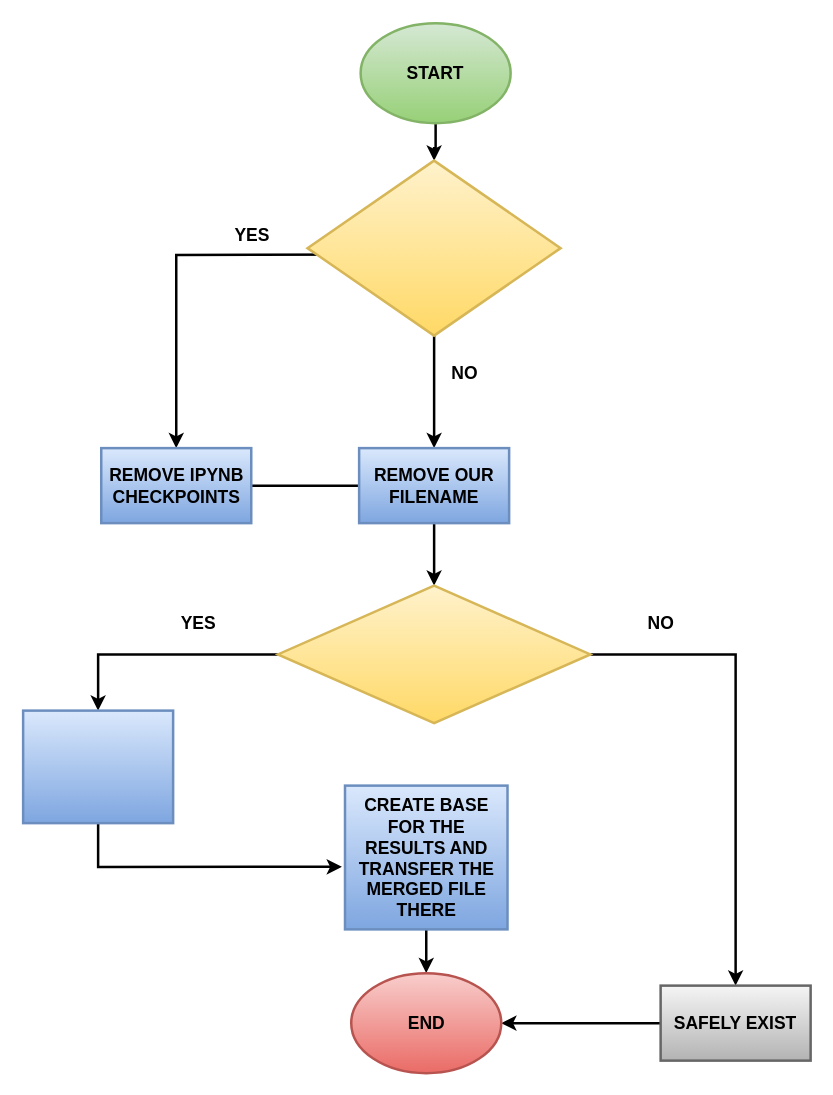
This 833x1095 diagram has some shape labels left out. Here are the shapes that lost their labels. From the top down, the centre of each, then its label:
point (433, 247): IS IPYNB_CHECKPOINTS PRESENT ?
point (433, 654): IS TARGET IPYNB FILES PRESENT ?
point (97, 766): LOOP OVER ALL THE IPYNB FILES AND MERGE THEM ONE BY ONE
